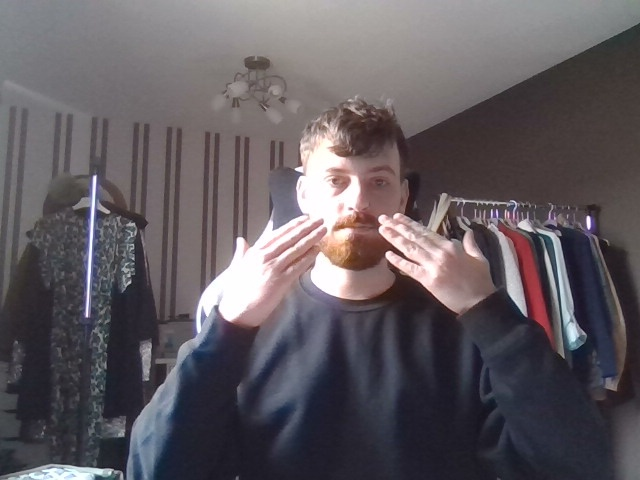Thanks: (211, 194, 500, 330)
